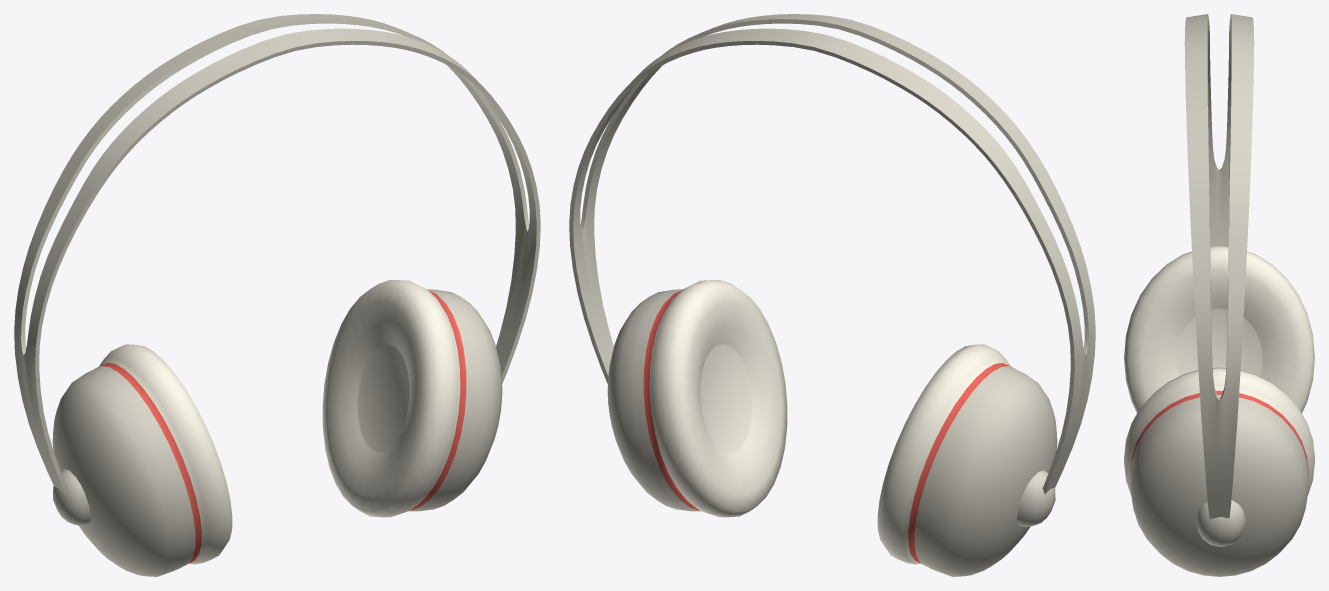
The model's file is headphones.fbx.
3 renders of one model, left to right at view 1: azimuth 30°, elevation 25°; view 2: azimuth 150°, elevation 25°; view 3: azimuth 270°, elevation 25°, orthographic. The views are drawn at different scales.
Visible parts, largest first — view 1: headphones; view 2: headphones; view 3: headphones.
Part boxes in pixels (box(x1,y1,x2,y2)): headphones: box(14, 14, 540, 576); headphones: box(569, 14, 1095, 576); headphones: box(1124, 14, 1314, 576).
Size of the model in its own units: 516 by 493 by 180.
